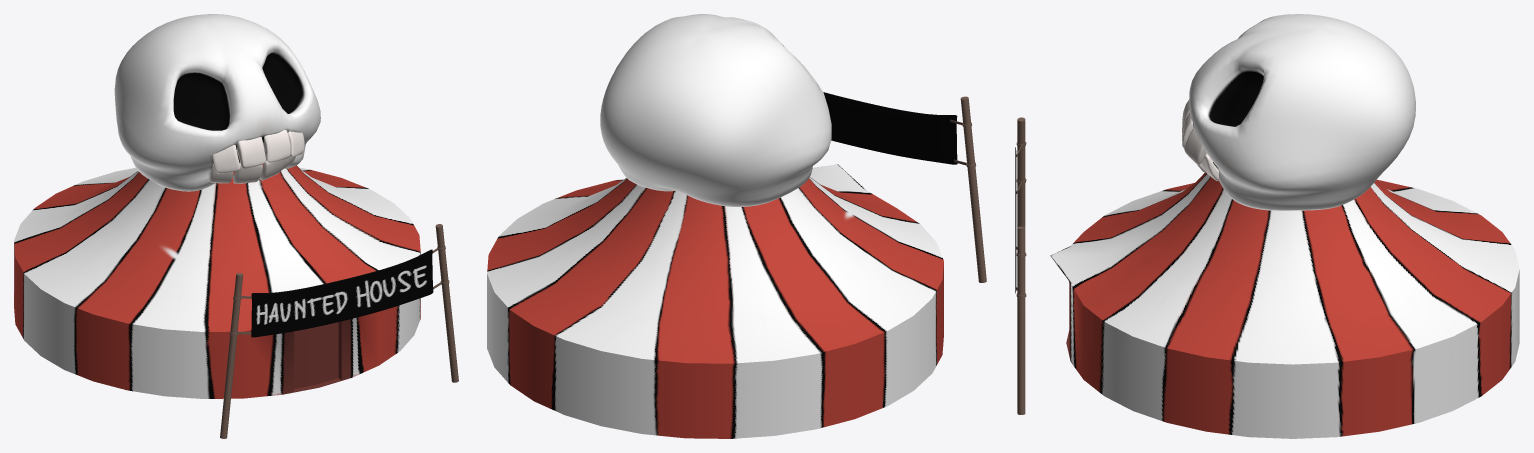
Rendered from rumah_hantu.fbx.
3 renders of one model, left to right at view 1: azimuth 30°, elevation 25°; view 2: azimuth 150°, elevation 25°; view 3: azimuth 270°, elevation 25°, orthographic. The views are drawn at different scales.
Parts seen in each view (by area): view 1: Plane; view 2: Plane; view 3: Plane.
Part boxes in pixels (x1,y1,x2,y2): Plane: [14, 14, 458, 438]; Plane: [487, 14, 986, 438]; Plane: [1015, 14, 1519, 438].
Size of the model in its own units: 4.32 by 3.4 by 4.8.
3 materials, 3 textured.
